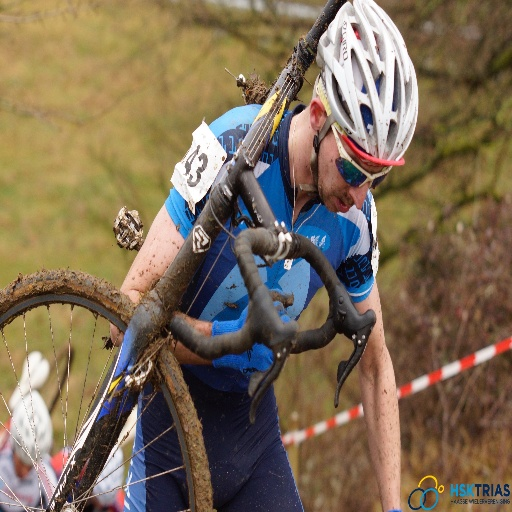hand: (239, 286, 290, 374)
